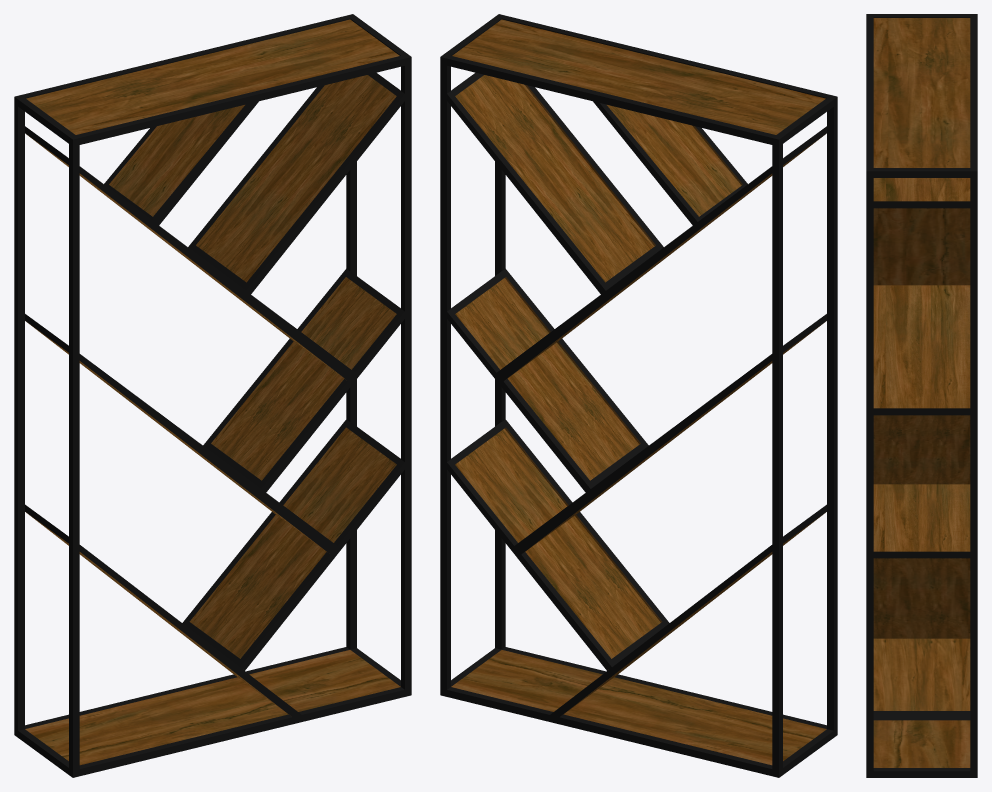
Rendered from book shelf.fbx.
3 views of the same model, side by side, from view 1: azimuth 30°, elevation 25°; view 2: azimuth 150°, elevation 25°; view 3: azimuth 270°, elevation 25° (orthographic). The views are drawn at different scales.
Visible parts, largest first — view 1: Book_shelf; view 2: Book_shelf; view 3: Book_shelf.
Boxes of the visible parts, x1=… form: Book_shelf: x1=14, y1=14, x2=411, y2=777; Book_shelf: x1=440, y1=14, x2=837, y2=777; Book_shelf: x1=866, y1=14, x2=977, y2=777.
Size of the model in its own units: 1000 by 1800 by 300.
Materials: 1 (1 with a texture image).
